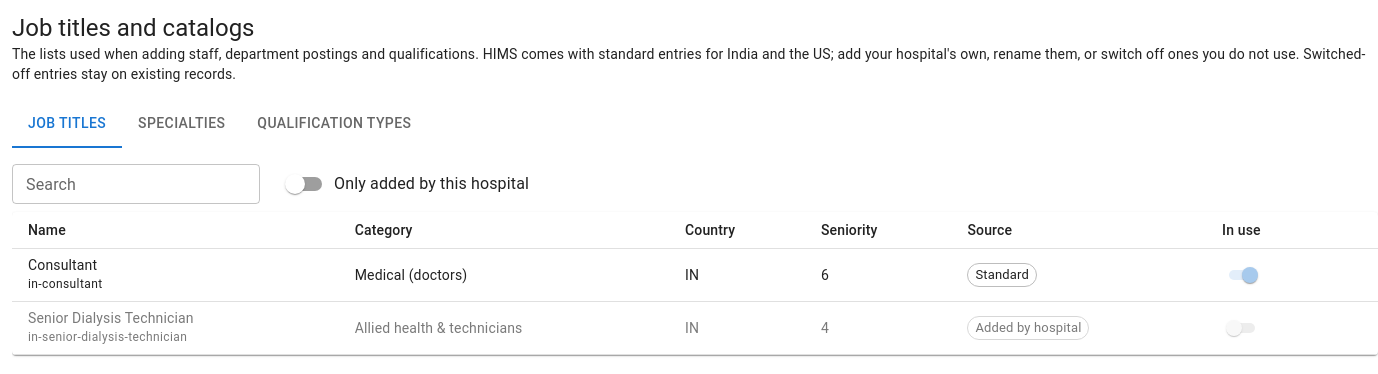
Scenario: CatalogsPage › searches by name
Expected: the text "Consultant" is shown, [28,257,97,273]
Type "dialysis" into the field labelled "Search". click: (136,184)
box: [12,164,260,204]
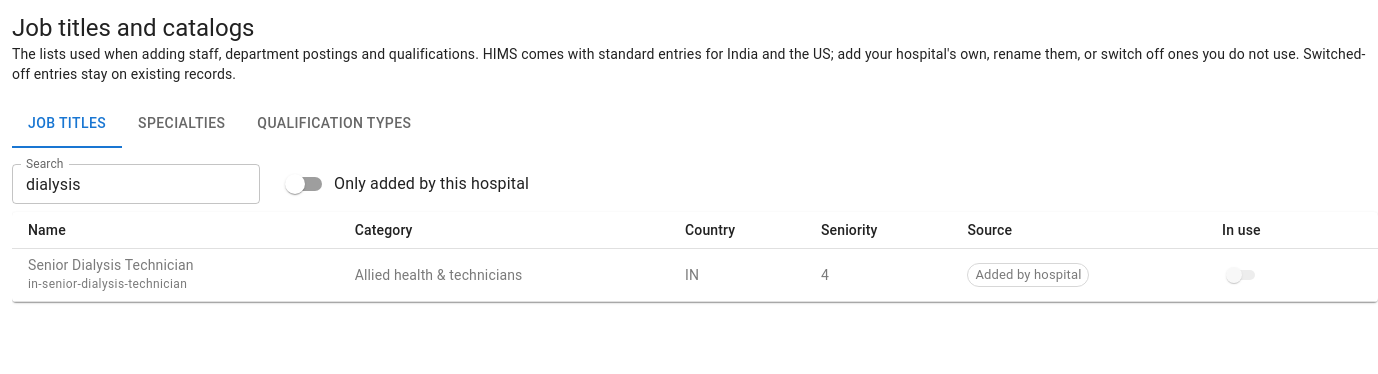
Expected: the text "Senior Dialysis Technician" is shown, [28,257,194,273]
Expected: the text "consultant" is gone
